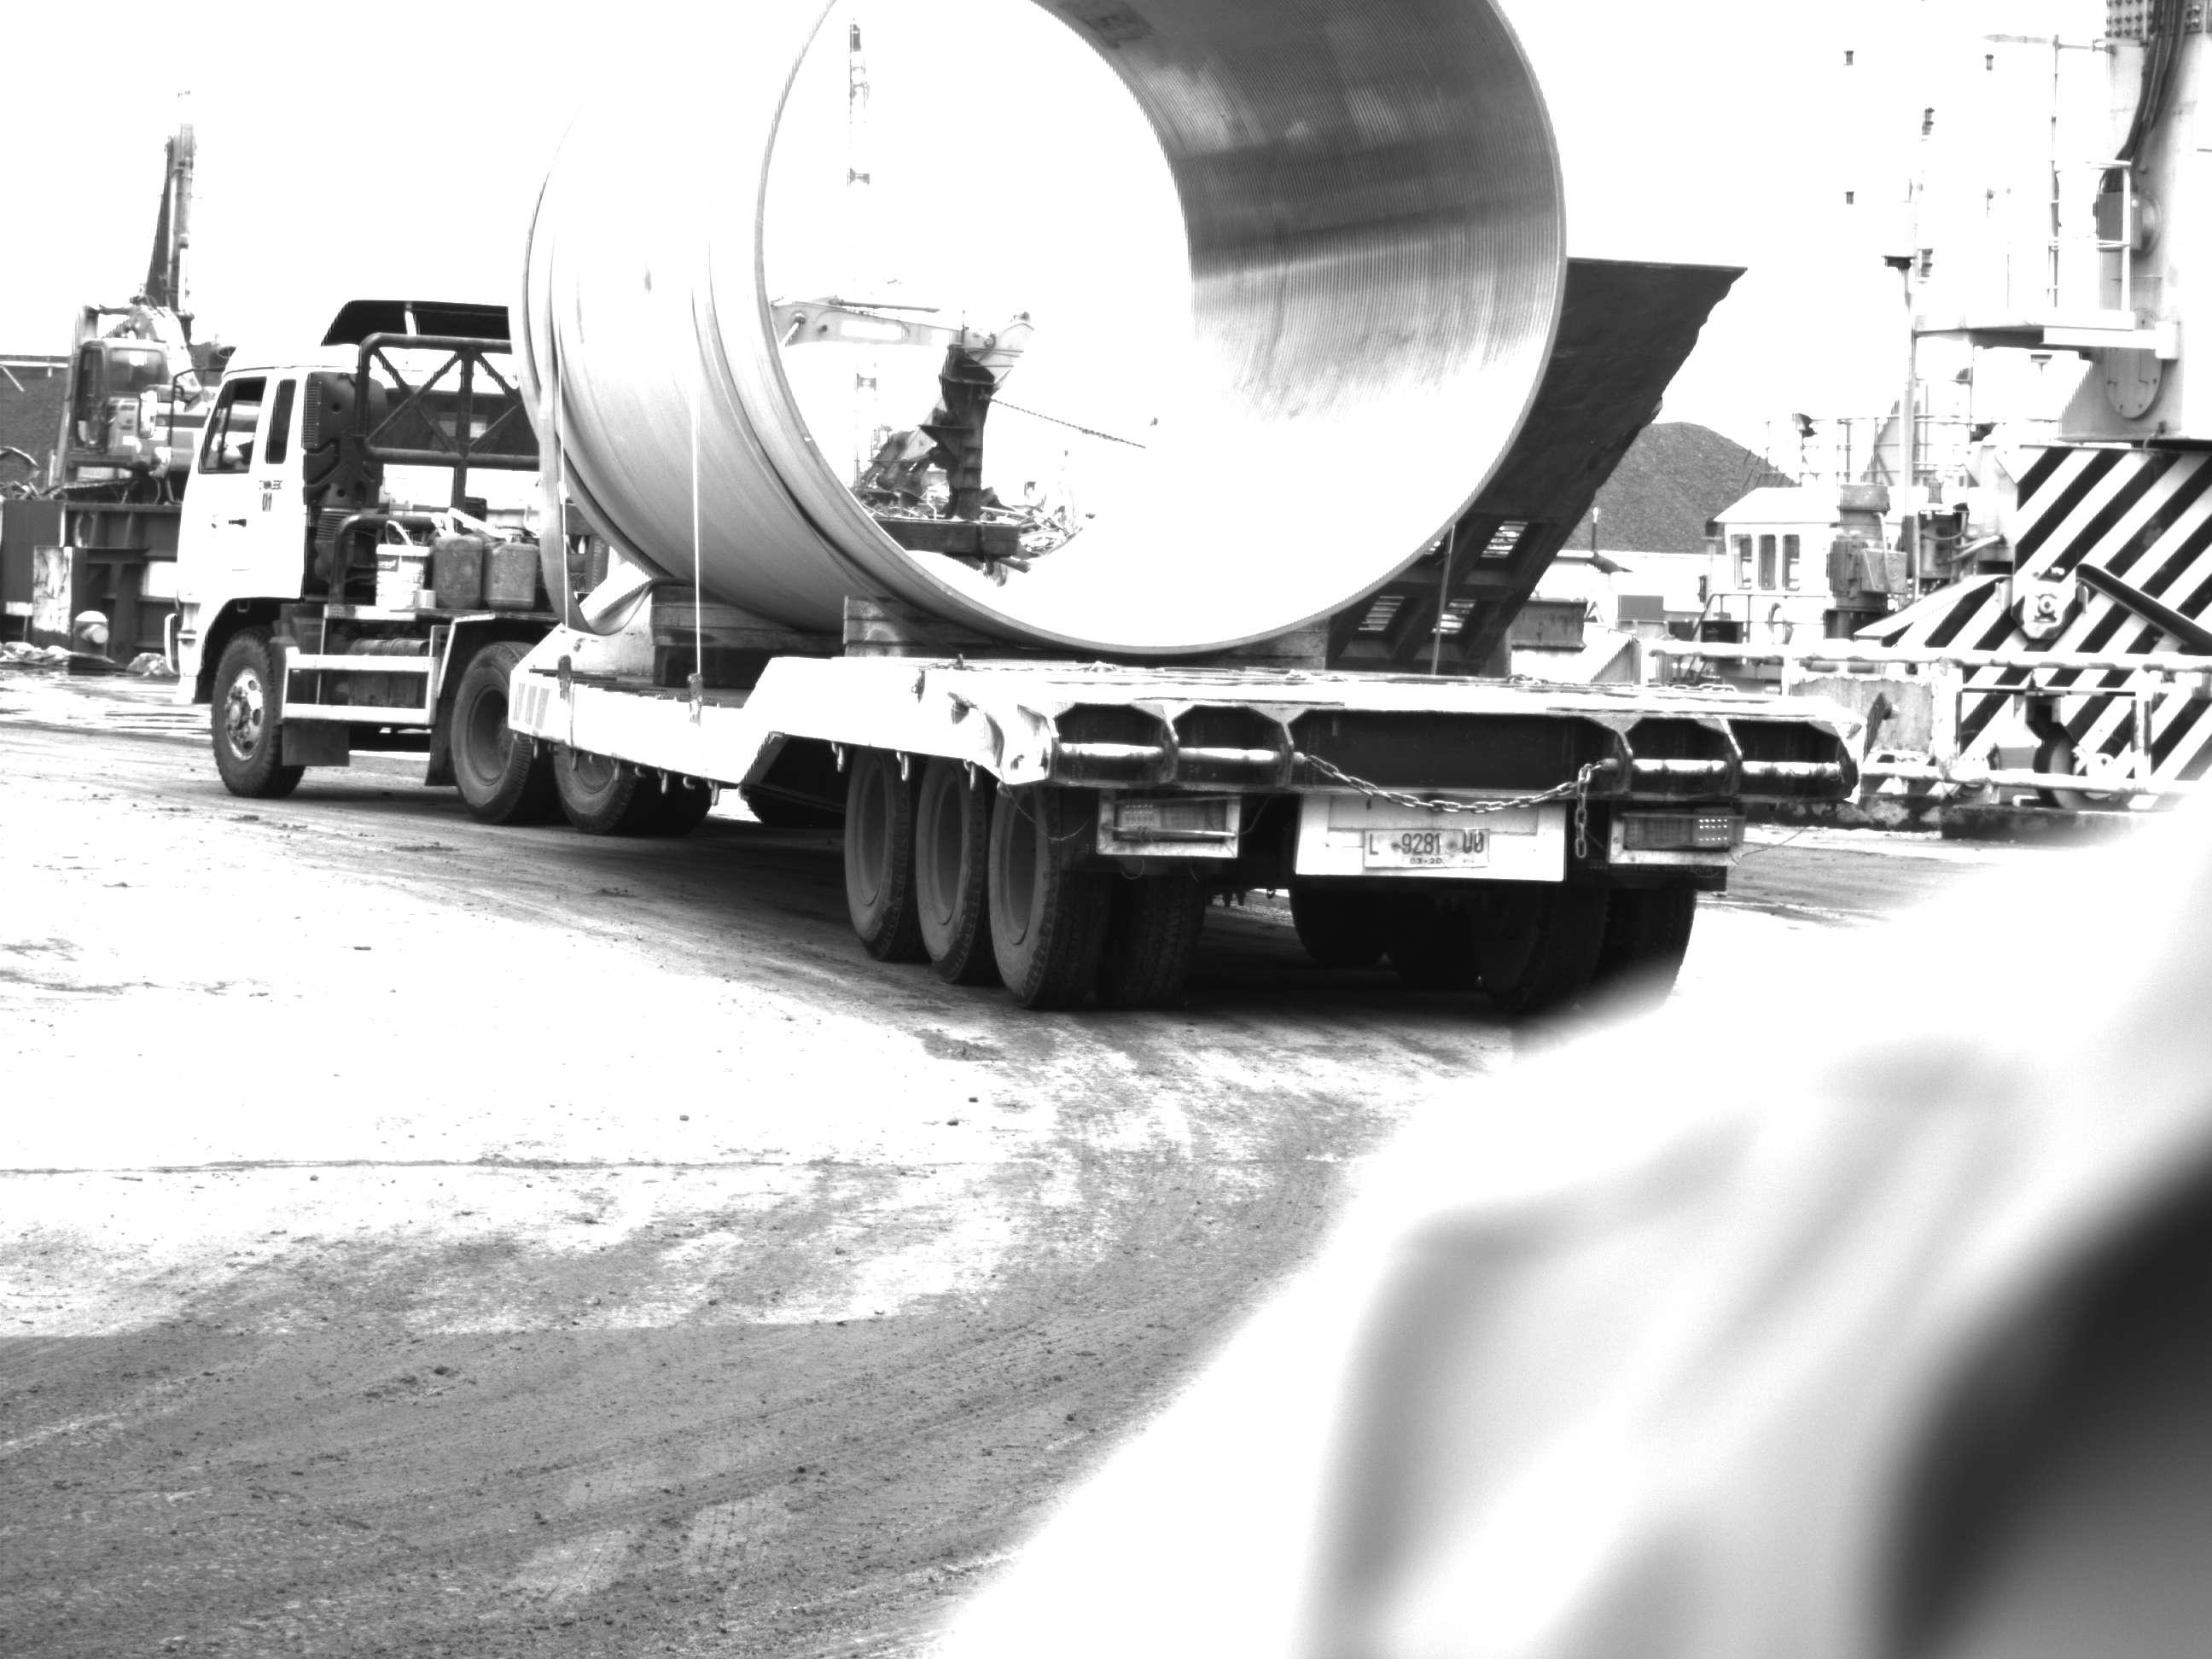day_small_rear: (991, 658, 1755, 1044)
plate: (1360, 824, 1490, 871)
